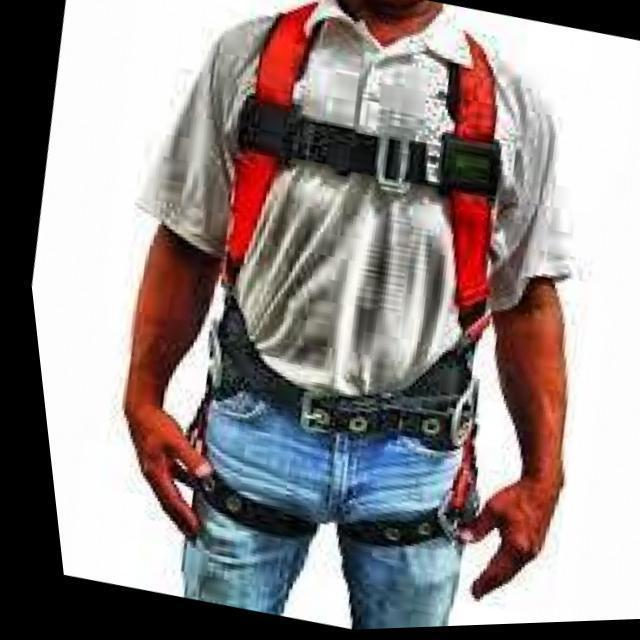Harness: (226, 2, 502, 313)
